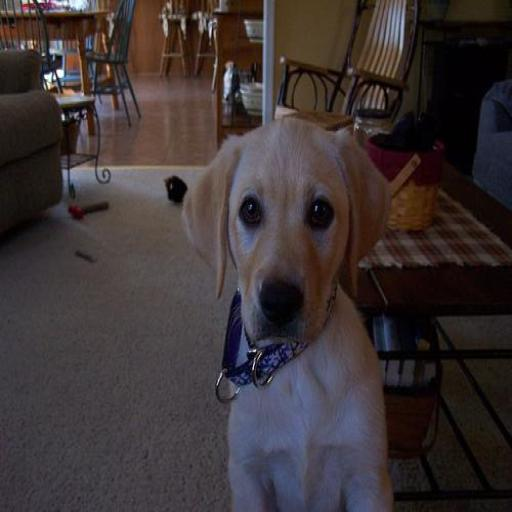dog_face: (190, 115, 383, 342)
